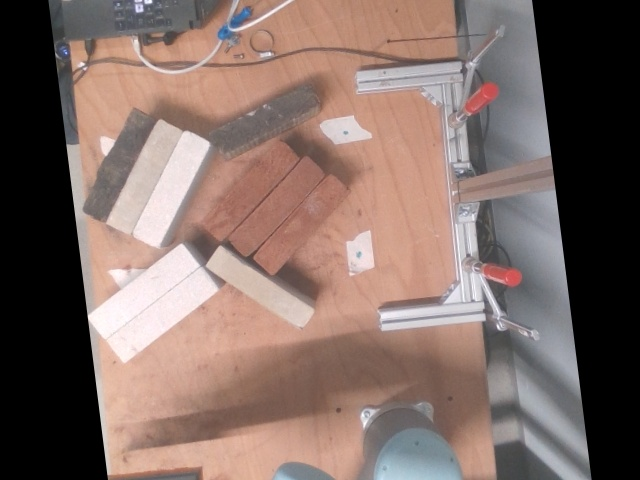brick-side: (90, 244, 196, 334), (202, 141, 296, 239), (110, 270, 215, 357), (229, 157, 322, 255), (255, 174, 346, 271), (133, 134, 205, 243), (108, 120, 178, 230), (208, 250, 308, 323), (83, 111, 151, 218), (214, 87, 313, 148)
